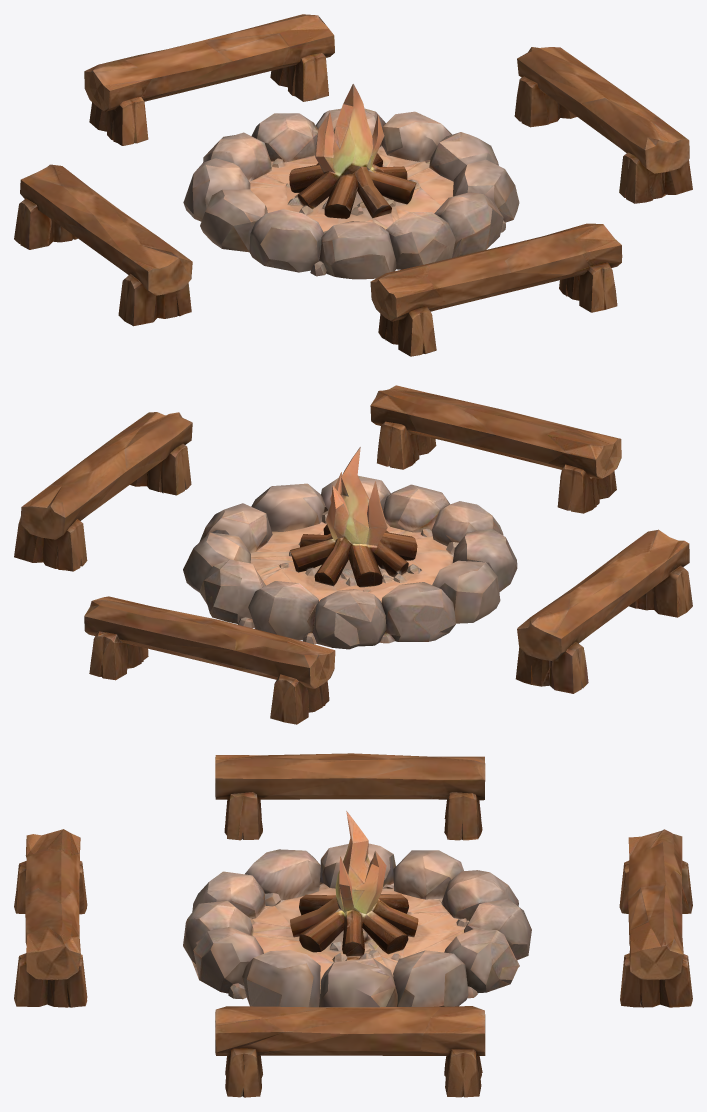
File: camp-camp-firepit.glb
3 renders of one model, top to bottom at view 1: azimuth 30°, elevation 25°; view 2: azimuth 150°, elevation 25°; view 3: azimuth 270°, elevation 25°, orthographic. The views are drawn at different scales.
Bounding box in the file's own units: 1.9 × 0.4321 × 1.89.
1 material, 1 textured.
